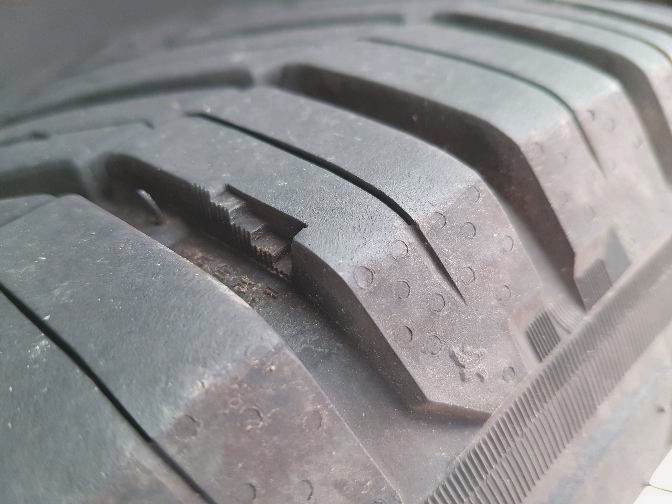temoin:90: (181, 175, 316, 289)
